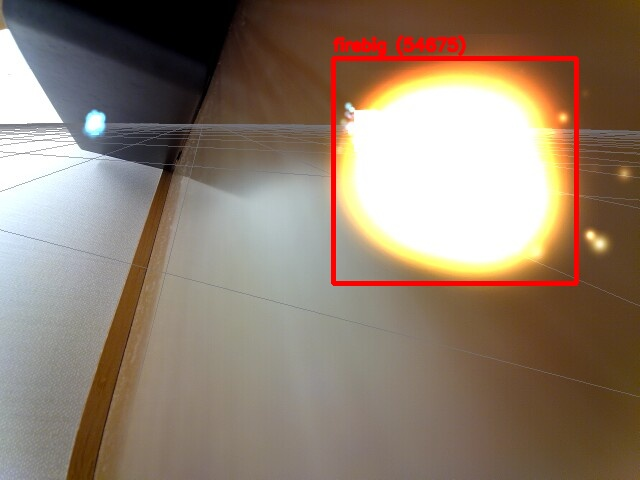firebig: (333, 58, 576, 283)
